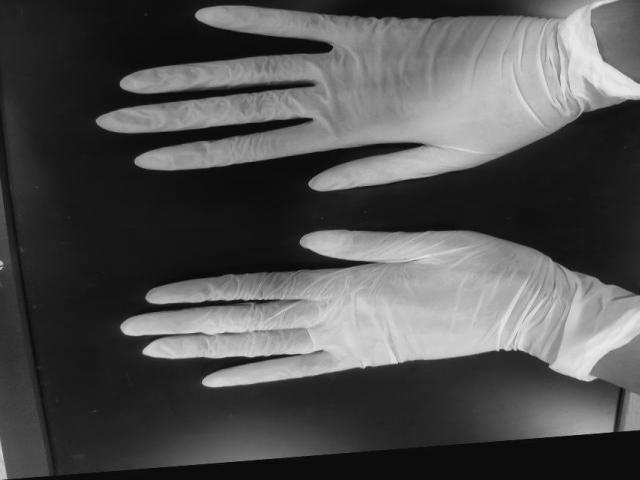gloved: (98, 4, 559, 192), (120, 228, 538, 388)
